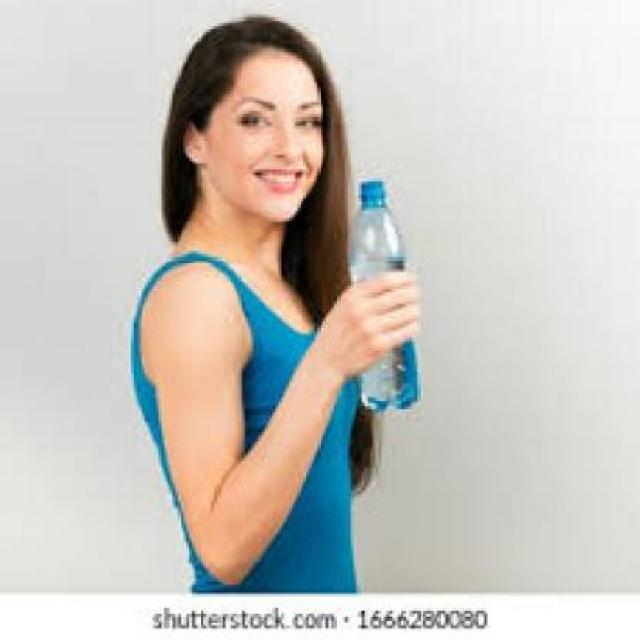Drinking: (331, 169, 434, 429)
